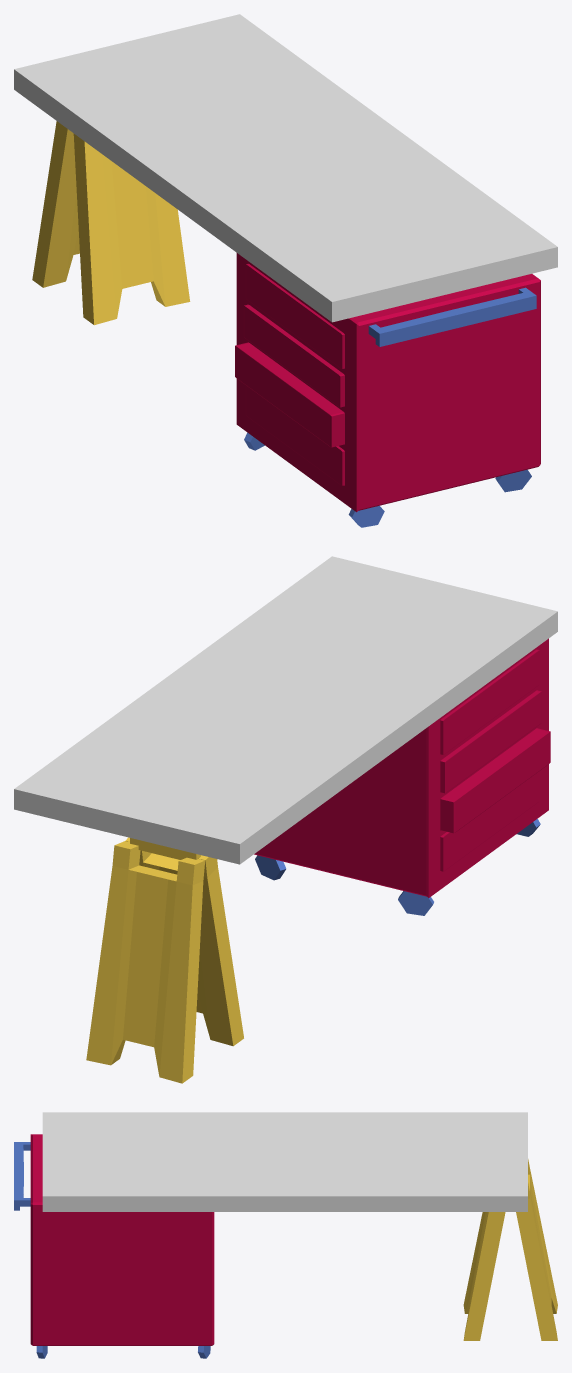
File: ToolstationFlipped.fbx
3 views of the same model, one above another, from view 1: azimuth 30°, elevation 25°; view 2: azimuth 150°, elevation 25°; view 3: azimuth 270°, elevation 25° (orthographic). The views are drawn at different scales.
Parts seen in each view (by area): view 1: ToolTableTop, Cube.003, WetFlrSign, Cube; view 2: ToolTableTop, Cube.003, WetFlrSign; view 3: ToolTableTop, Cube.003, WetFlrSign, Cube.
Part boxes in pixels (x1,y1,x2,y2): ToolTableTop: (14, 14, 557, 322); Cube.003: (235, 253, 540, 512); WetFlrSign: (32, 121, 190, 325); Cube: (368, 287, 536, 346); ToolTableTop: (14, 556, 557, 864); Cube.003: (254, 638, 550, 897); WetFlrSign: (86, 837, 243, 1083); ToolTableTop: (42, 1112, 527, 1211); Cube.003: (30, 1134, 214, 1345); WetFlrSign: (463, 1159, 557, 1340); Cube: (14, 1142, 30, 1210).
Size of the model in its own units: 77.4 by 76.74 by 212.
